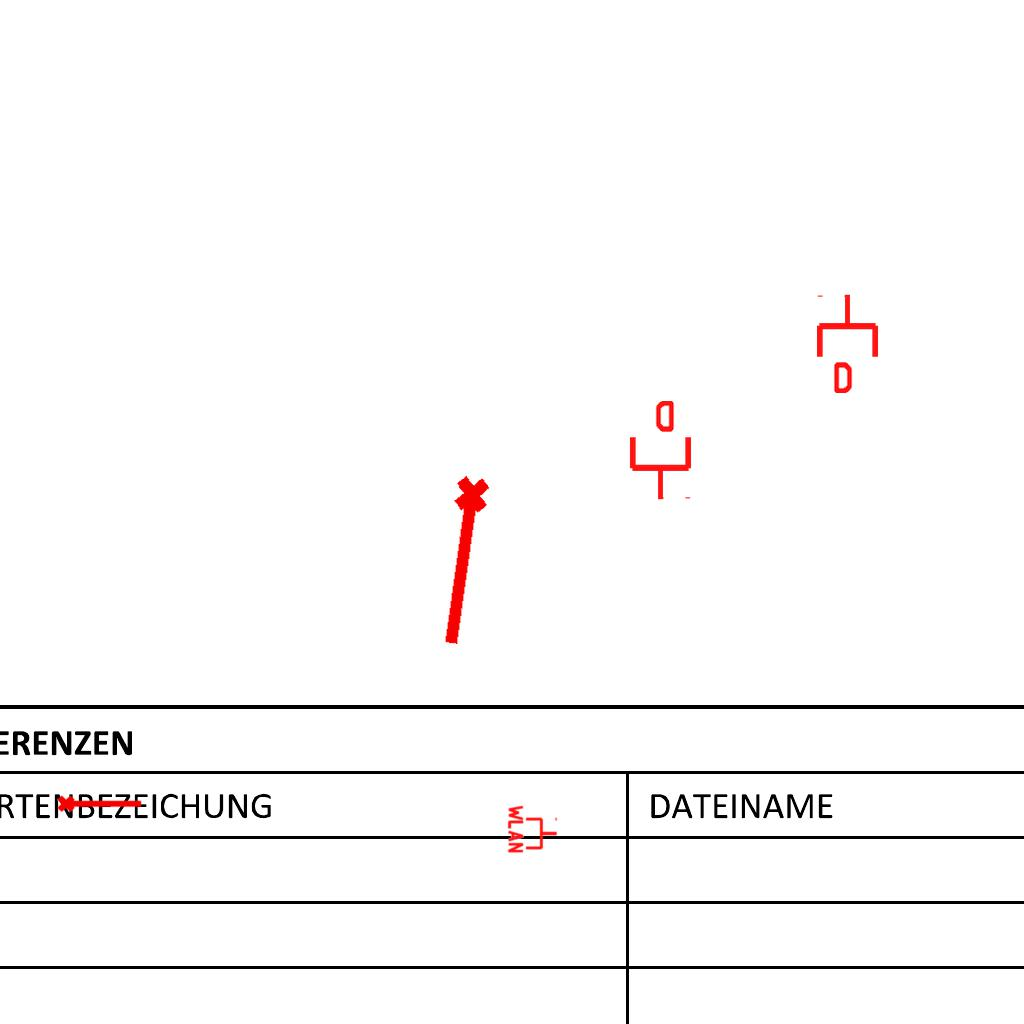ASR_Ansaugoeffnung: (429, 471, 501, 653), (56, 791, 144, 814)
Datenanschluss_einfach: (813, 293, 882, 393), (626, 401, 695, 501)
WLAN: (507, 803, 559, 855)
